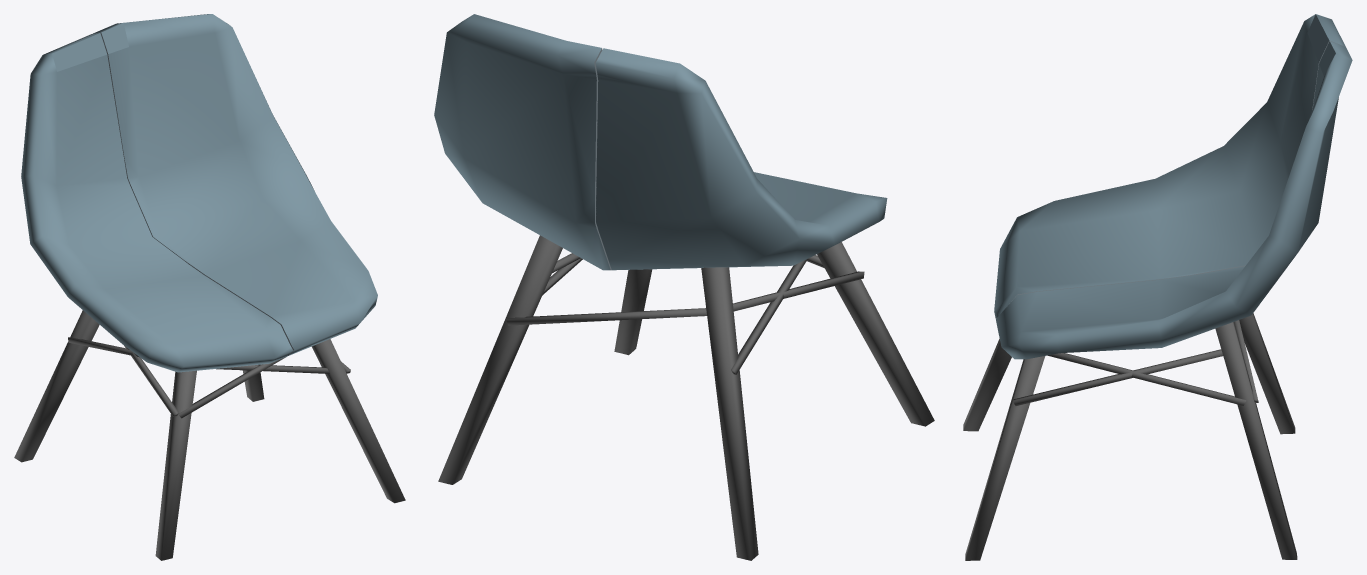
File: Ghe_Fractured.fbx
3 views of the same model, side by side, from view 1: azimuth 30°, elevation 25°; view 2: azimuth 150°, elevation 25°; view 3: azimuth 270°, elevation 25° (orthographic). The views are drawn at different scales.
Visible parts, largest first — view 1: polySurface1245_cell.001, polySurface1245_cell, polySurface1245.010, polySurface1245.006, polySurface1245.005, polySurface1245.004, polySurface1245.011, polySurface1245.001; view 2: polySurface1245_cell, polySurface1245_cell.001, polySurface1245.005, polySurface1245.007, polySurface1245.010, polySurface1245.006, polySurface1245.002, polySurface1245.003, polySurface1245.011; view 3: polySurface1245_cell, polySurface1245_cell.001, polySurface1245.007, polySurface1245.006, polySurface1245.005, polySurface1245.010, polySurface1245.008, polySurface1245.009.
Boxes of the visible parts, x1,y1,x2,y2 form: polySurface1245_cell.001: (93, 14, 377, 355); polySurface1245_cell: (21, 33, 293, 372); polySurface1245.010: (155, 370, 196, 560); polySurface1245.006: (311, 339, 405, 503); polySurface1245.005: (14, 310, 99, 462); polySurface1245.004: (178, 357, 285, 418); polySurface1245.011: (124, 345, 178, 416); polySurface1245.001: (216, 364, 329, 373); polySurface1245_cell: (595, 48, 887, 270); polySurface1245_cell.001: (434, 14, 611, 270); polySurface1245.005: (701, 267, 758, 560); polySurface1245.007: (438, 235, 562, 484); polySurface1245.010: (817, 242, 934, 426); polySurface1245.006: (614, 269, 652, 355); polySurface1245.002: (506, 308, 706, 325); polySurface1245.003: (731, 259, 807, 374); polySurface1245.011: (733, 271, 864, 311); polySurface1245_cell: (994, 14, 1345, 318); polySurface1245_cell.001: (996, 41, 1352, 359); polySurface1245.007: (1215, 322, 1297, 559); polySurface1245.006: (965, 356, 1045, 560); polySurface1245.005: (1239, 313, 1295, 434); polySurface1245.010: (963, 339, 1011, 431); polySurface1245.008: (1013, 349, 1222, 405); polySurface1245.009: (1047, 353, 1246, 405).
Bounding box in the file's own units: 61.61 × 82.87 × 65.71.
